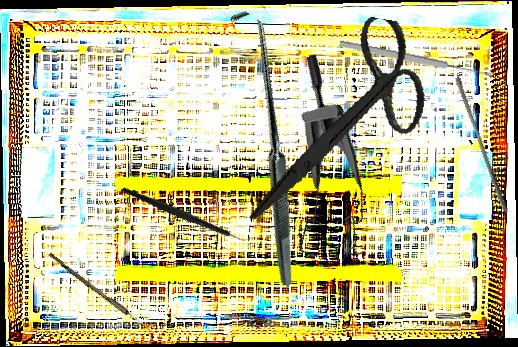Chopper: (120, 147, 255, 280)
Hook Surgical: (124, 6, 403, 288)
Iris Scissors: (247, 1, 438, 245)
Pusher: (450, 76, 514, 214)
Speculum: (225, 52, 404, 278)
Surgical Spoon: (46, 252, 158, 336), (338, 38, 495, 81)
